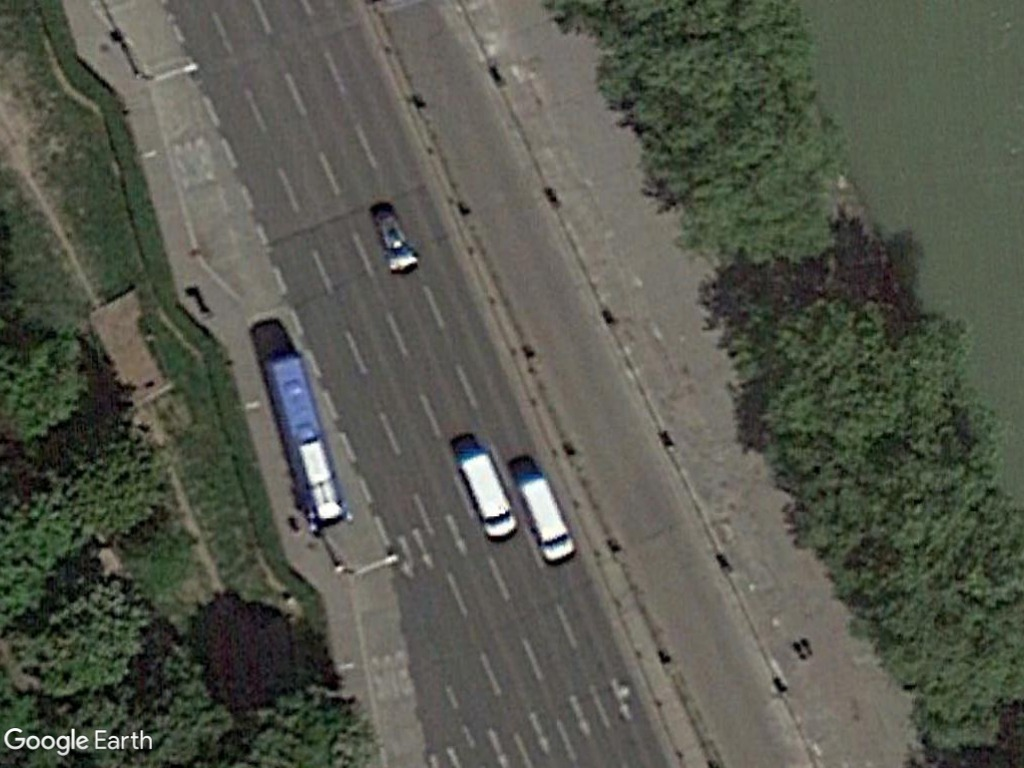bus: (263, 347, 348, 528)
car: (372, 204, 420, 278)
van: (453, 445, 521, 545), (520, 466, 577, 567)
